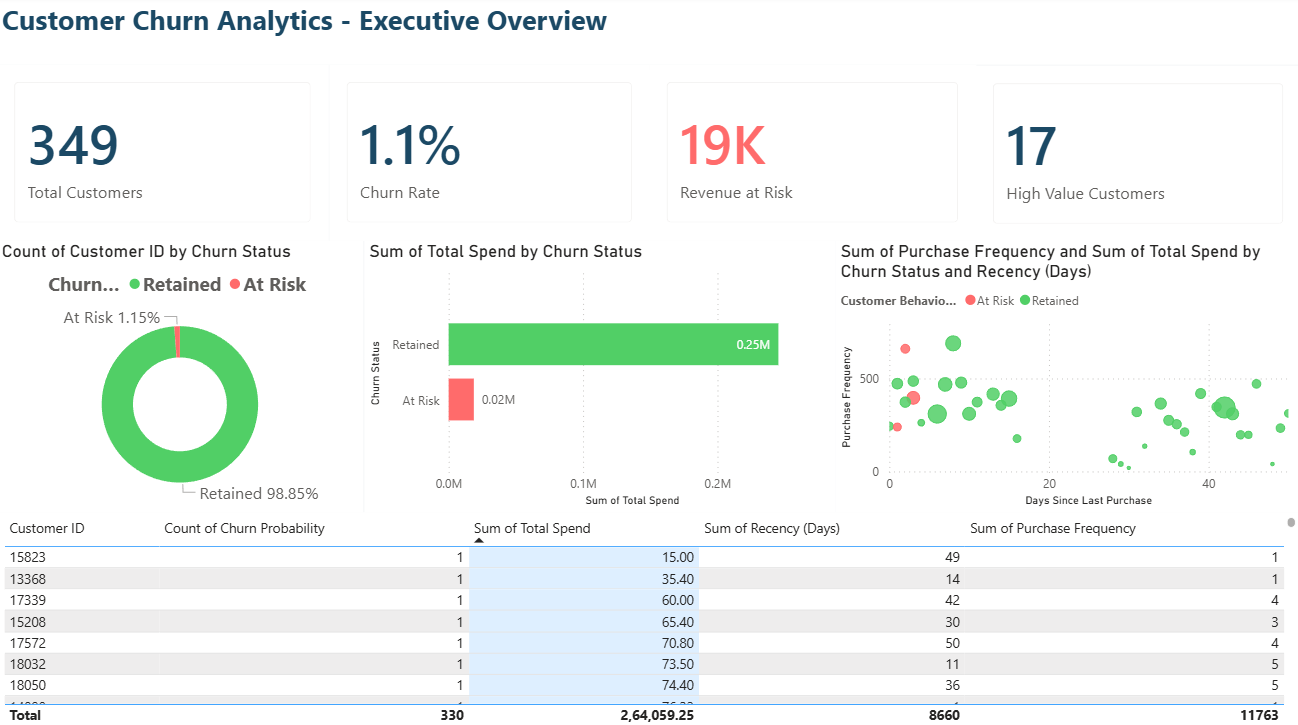

This screenshot's page, from the dashboard's own definition file:
{"tool":"powerbi","page":{"name":"Page 1","canvas":[1280,720],"ordinal":0},"visuals":[{"type":"cardVisual","fields":{"Data":["customer_churn_prediction.Total Customers"]},"box":[0,67.2,325.9,172.9],"z":0},{"type":"cardVisual","fields":{"Data":["customer_churn_prediction.Churn Rate"]},"box":[325.9,67.2,314.7,172.9],"z":1},{"type":"cardVisual","fields":{"Data":["customer_churn_prediction.Revenue at Risk"]},"box":[640.6,67.2,320.9,172.9],"z":2},{"type":"cardVisual","fields":{"Data":["customer_churn_prediction.High Value Customers"]},"box":[960.3,68.4,319.7,172.9],"z":3},{"type":"donutChart","fields":{"Category":["customer_churn_prediction.Churn Status"],"Y":["CountNonNull(customer_churn_prediction.Customer ID)"]},"box":[0,240.1,359.5,266.2],"z":4},{"type":"clusteredBarChart","fields":{"Category":["customer_churn_prediction.Churn Status"],"Y":["Sum(customer_churn_prediction.Total Spend)"]},"box":[360.7,240.1,462.8,266.2],"z":5},{"type":"scatterChart","fields":{"X":["customer_churn_prediction.Recency (Days)"],"Y":["Sum(customer_churn_prediction.Purchase Frequency)"],"Size":["Sum(customer_churn_prediction.Total Spend)"],"Series":["customer_churn_prediction.Churn Status"]},"box":[823.5,240.1,456.5,266.2],"z":6},{"type":"tableEx","fields":{"Values":["customer_churn_prediction.Customer ID","customer_churn_prediction.Churn Probability","Sum(customer_churn_prediction.Total Spend)","Sum(customer_churn_prediction.Recency (Days))","Sum(customer_churn_prediction.Purchase Frequency)"]},"box":[1.2,506.3,1278.8,214],"z":7},{"type":"textbox","box":[0,0,1278.8,67.2],"z":8}]}

Visuals, with their boxes in screenshot pixels (x1, y1, x2, y2), scaled from the page's 1280x720 canvas onto the 1298x725 screenshot:
cardVisual - customer_churn_prediction.Total Customers: rect(0, 68, 330, 242)
cardVisual - customer_churn_prediction.Churn Rate: rect(330, 68, 650, 242)
cardVisual - customer_churn_prediction.Revenue at Risk: rect(650, 68, 975, 242)
cardVisual - customer_churn_prediction.High Value Customers: rect(974, 69, 1297, 243)
donutChart - customer_churn_prediction.Churn Status x CountNonNull(customer_churn_prediction.Customer ID): rect(0, 242, 365, 510)
clusteredBarChart - customer_churn_prediction.Churn Status x Sum(customer_churn_prediction.Total Spend): rect(366, 242, 835, 510)
scatterChart - customer_churn_prediction.Recency (Days) x Sum(customer_churn_prediction.Purchase Frequency): rect(835, 242, 1297, 510)
tableEx - customer_churn_prediction.Customer ID x customer_churn_prediction.Churn Probability: rect(1, 510, 1297, 724)
textbox: rect(0, 0, 1297, 68)
